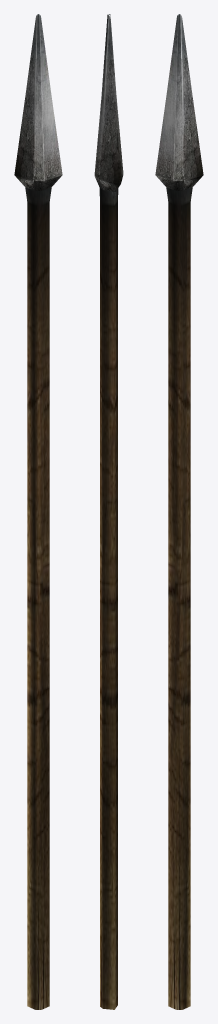
The model's file is weapons_longw02.glb.
The picture shows the model from 3 angles, left to right: view 1: azimuth 90°, elevation 25°; view 2: azimuth 210°, elevation 25°; view 3: azimuth 270°, elevation 25°; orthographic projection.
Visible parts, largest first — view 1: longw02; view 2: longw02; view 3: longw02.
Boxes of the visible parts, left/top/right/bottom form: longw02: left=14, top=14, right=62, bottom=1009; longw02: left=94, top=14, right=123, bottom=1009; longw02: left=155, top=14, right=203, bottom=1009.
Bounding box in the file's own units: 0.0506 × 2.05 × 0.0905.
1 material, 1 textured.
